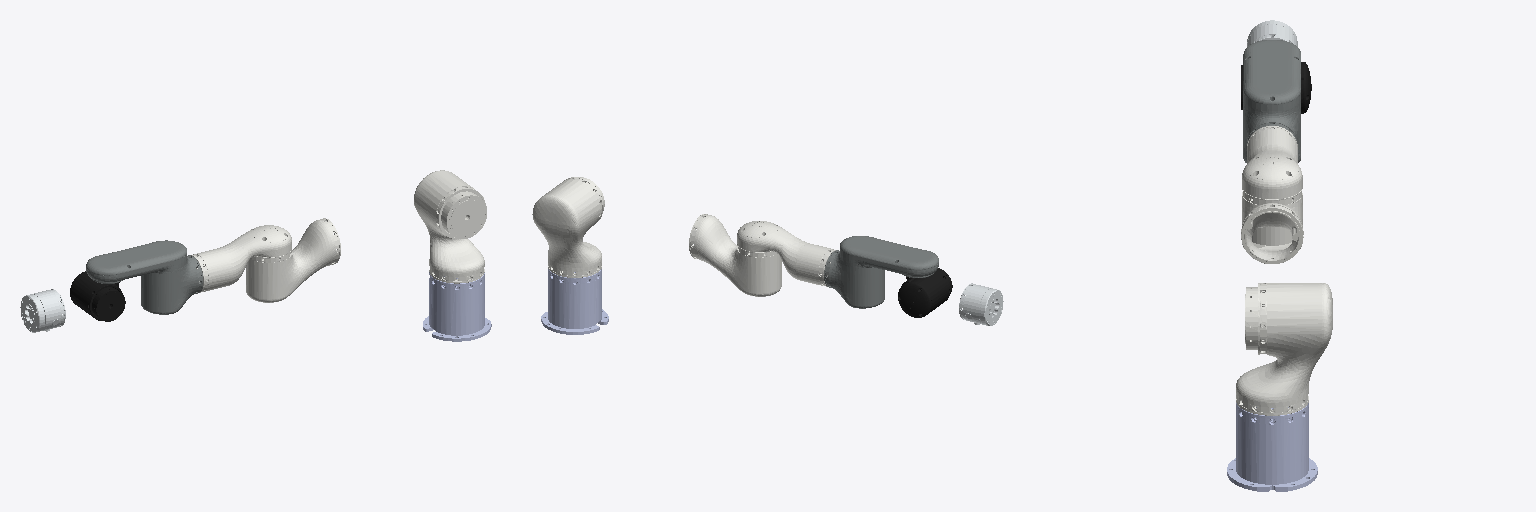
URDF robot description (RXR-6FB-V):
<?xml version="1.0" encoding="utf-8"?>
<!-- This URDF was automatically created by SolidWorks to URDF Exporter! Originally created by Stephen Brawner (brawner@gmail.com) 
     Commit Version: 1.6.0-4-g7f85cfe  Build Version: 1.6.7995.38578
     For more information, please see http://wiki.ros.org/sw_urdf_exporter -->
<robot
  name="RXR-6FB-V">
  <link
    name="base_link">
    <inertial>
      <origin
        xyz="-0.001567 0.000482 0.057387"
        rpy="0 0 0" />
      <mass
        value="1.36" />
      <inertia
        ixx="0.001538061"
        ixy="5.117e-06"
        ixz="-1.0816e-05"
        iyy="0.0015157"
        iyz="2.6121e-05"
        izz="0.001161949" />
    </inertial>
    <visual>
      <origin
        xyz="0 0 0"
        rpy="0 0 0" />
      <geometry>
        <mesh
          filename="package://rm_description/meshes/rm_rx75_arm/rm_rx75_right_arm_v/base_link.STL" />
      </geometry>
      <material
        name="">
        <color
          rgba="0.792156862745098 0.819607843137255 0.933333333333333 1" />
      </material>
    </visual>
    <collision>
      <origin
        xyz="0 0 0"
        rpy="0 0 0" />
      <geometry>
        <mesh
          filename="package://rm_description/meshes/rm_rx75_arm/rm_rx75_right_arm_v/base_link.STL" />
      </geometry>
    </collision>
  </link>
  <link
    name="Link1">
    <inertial>
      <origin
        xyz="0.018E-3 -13.67E-3 -10.1E-3"
        rpy="0 0 0" />
      <mass
        value="1.559" />
      <inertia
        ixx="2693.824E-6"
        ixy="-0.293E-6"
        ixz="2.442E-6"
        iyy="2324.503E-6"
        iyz="193.031E-6"
        izz="1662.437E-6" />
    </inertial>
    <visual>
      <origin
        xyz="0 0 0"
        rpy="0 0 0" />
      <geometry>
        <mesh
          filename="package://rm_description/meshes/rm_rx75_arm/rm_rx75_right_arm_v/Link1.STL" />
      </geometry>
      <material
        name="">
        <color
          rgba="0.925490196078431 0.925490196078431 0.905882352941176 1" />
      </material>
    </visual>
    <collision>
      <origin
        xyz="0 0 0"
        rpy="0 0 0" />
      <geometry>
        <mesh
          filename="package://rm_description/meshes/rm_rx75_arm/rm_rx75_right_arm_v/Link1.STL" />
      </geometry>
    </collision>
  </link>
  <joint
    name="J1"
    type="revolute">
    <origin
      xyz="0 0 0.1915"
      rpy="0 0 0" />
    <parent
      link="base_link" />
    <child
      link="Link1" />
    <axis
      xyz="0 0 1" />
    <limit
      lower="-3.0194"
      upper="3.0194"
      effort="60"
      velocity="3.14" />
  </joint>
  <link
    name="Link2">
    <inertial>
      <origin
        xyz="-0.000196999999999991 0.149264028683704 0.00390390344532155"
        rpy="0 0 0" />
      <mass
        value="1.384" />
      <inertia
        ixx="0.00672698899999999"
        ixy="1.60996569956782e-06"
        ixz="-4.6690118275944e-06"
        iyy="0.00102815402860369"
        iyz="0.000750632506042032"
        izz="0.00667798297139631" />
    </inertial>
    <visual>
      <origin
        xyz="0 0 0"
        rpy="3.14158530717959 0 0" />
      <geometry>
        <mesh
          filename="package://rm_description/meshes/rm_rx75_arm/rm_rx75_right_arm_v/Link2.STL" />
      </geometry>
      <material
        name="">
        <color
          rgba="0.92549 0.92549 0.90588 1" />
      </material>
    </visual>
    <collision>
      <origin
        xyz="0 0 0"
        rpy="3.14158530717959 0 0" />
      <geometry>
        <mesh
          filename="package://rm_description/meshes/rm_rx75_arm/rm_rx75_right_arm_v/Link2.STL" />
      </geometry>
    </collision>
  </link>
  <joint
    name="J2"
    type="revolute">
    <origin
      xyz="0 0 0"
      rpy="-1.57079265346976 -1.57079265358979 3.14159265346976" />
    <parent
      link="Link1" />
    <child
      link="Link2" />
    <axis
      xyz="0 7.34641020655755e-06 0.999999999973015" />
    <limit
      lower="-3.1067"
      upper="0.6109"
      effort="60"
      velocity="3.14" />
  </joint>
  <link
    name="Link3">
    <inertial>
      <origin
        xyz="0.000153917418998824 -0.0156519999999999 0.0112410011310439"
        rpy="0 0 0" />
      <mass
        value="1.117" />
      <inertia
        ixx="0.00175636000587932"
        ixy="4.25782281986954e-06"
        ixz="-3.97298252641502e-07"
        iyy="1468.096E-6"
        iyz="-0.000112002968723313"
        izz="0.000980232994120682" />
    </inertial>
    <visual>
      <origin
        xyz="0 0 0"
        rpy="-3.14159265358979 7.34641020661009e-06 -3.14159265358979" />
      <geometry>
        <mesh
          filename="package://rm_description/meshes/rm_rx75_arm/rm_rx75_right_arm_v/Link3.STL" />
      </geometry>
      <material
        name="">
        <color
          rgba="0.925490196078431 0.925490196078431 0.905882352941176 1" />
      </material>
    </visual>
    <collision>
      <origin
        xyz="0 0 0"
        rpy="-3.14159265358979 7.34641020661009e-06 -3.14159265358979" />
      <geometry>
        <mesh
          filename="package://rm_description/meshes/rm_rx75_arm/rm_rx75_right_arm_v/Link3.STL" />
      </geometry>
    </collision>
  </link>
  <joint
    name="J3"
    type="revolute">
    <origin
      xyz="0 0.321999999991311 -2.36554408651153e-06"
      rpy="1.5707963267949 1.5707963267949 0" />
    <parent
      link="Link2" />
    <child
      link="Link3" />
    <axis
      xyz="-7.34641020655755e-06 0 0.999999999973015" />
    <limit
      lower="-3.0194"
      upper="3.0194"
      effort="30"
      velocity="3.925" />
  </joint>
  <link
    name="Link4">
    <inertial>
      <origin
        xyz="6.35736300044839e-07 -0.0865369999976648 -4.41099999875608e-06"
        rpy="0 0 0" />
      <mass
        value="0.665" />
      <inertia
        ixx="0.00120941599830706"
        ixy="1.1844419021188e-07"
        ixz="-8.50819597611498e-09"
        iyy="0.000332227001692943"
        iyz="0.000205296999943048"
        izz="1191.661E-6" />
    </inertial>
    <visual>
      <origin
        xyz="0 0 0"
        rpy="0 0 -3.14158530717959" />
      <geometry>
        <mesh
          filename="package://rm_description/meshes/rm_rx75_arm/rm_rx75_right_arm_v/Link4.STL" />
      </geometry>
      <material
        name="">
        <color
          rgba="0.925490196078431 0.925490196078431 0.905882352941176 1" />
      </material>
    </visual>
    <collision>
      <origin
        xyz="0 0 0"
        rpy="0 0 -3.14158530717959" />
      <geometry>
        <mesh
          filename="package://rm_description/meshes/rm_rx75_arm/rm_rx75_right_arm_v/Link4.STL" />
      </geometry>
    </collision>
  </link>
  <joint
    name="J4"
    type="revolute">
    <origin
      xyz="0 0 0"
      rpy="1.5707963267949 0 0" />
    <parent
      link="Link3" />
    <child
      link="Link4" />
    <axis
      xyz="0 0 1" />
    <limit
      lower="-2.2689"
      upper="0.2618"
      effort="30"
      velocity="3.925" />
  </joint>
  <link
    name="Link5">
    <inertial>
      <origin
        xyz="-5.92319015829158e-07 0.0147390000000006 0.0806269999978242"
        rpy="0 0 0" />
      <mass
        value="1.13" />
      <inertia
        ixx="2343.069E-6"
        ixy="-5.12594038513658e-08"
        ixz="2.41932903810471e-08"
        iyy="1934.377E-6"
        iyz="0.000443672999635393"
        izz="1091.67E-6" />
    </inertial>
    <visual>
      <origin
        xyz="0 0 0"
        rpy="-3.14159265358979 7.34641020661009e-06 -3.14159265358979" />
      <geometry>
        <mesh
          filename="package://rm_description/meshes/rm_rx75_arm/rm_rx75_right_arm_v/Link5.STL" />
      </geometry>
      <material
        name="">
        <color
          rgba="0.529411764705882 0.549019607843137 0.549019607843137 1" />
      </material>
    </visual>
    <collision>
      <origin
        xyz="0 0 0"
        rpy="-3.14159265358979 7.34641020661009e-06 -3.14159265358979" />
      <geometry>
        <mesh
          filename="package://rm_description/meshes/rm_rx75_arm/rm_rx75_right_arm_v/Link5.STL" />
      </geometry>
    </collision>
  </link>
  <joint
    name="J5"
    type="revolute">
    <origin
      xyz="2.02393601190661e-06 -0.275499999992566 0"
      rpy="-1.5707963267949 0 0" />
    <parent
      link="Link4" />
    <child
      link="Link5" />
    <axis
      xyz="-7.34641020655755e-06 0 0.999999999973015" />
    <limit
      lower="-3.0194"
      upper="3.0194"
      effort="10"
      velocity="3.925" />
  </joint>
  <link
    name="Link6">
    <inertial>
      <origin
        xyz="-0.0139080074709239 0.0010168978260994 -0.0032449999999999"
        rpy="0 0 0" />
      <mass
        value="0.559" />
      <inertia
        ixx="0.000354168005741329"
        ixy="-3.9051483568136e-07"
        ixz="2.70690054503056e-05"
        iyy="0.000288126994258671"
        iyz="-7.4180114000209e-07"
        izz="312.487E-6" />
    </inertial>
    <visual>
      <origin
        xyz="0 0 0"
        rpy="0 0 -3.14158530717959" />
      <geometry>
        <mesh
          filename="package://rm_description/meshes/rm_rx75_arm/rm_rx75_right_arm_v/Link6.STL" />
      </geometry>
      <material
        name="">
        <color
          rgba="0.156862745098039 0.156862745098039 0.156862745098039 1" />
      </material>
    </visual>
    <collision>
      <origin
        xyz="0 0 0"
        rpy="0 0 -3.14158530717959" />
      <geometry>
        <mesh
          filename="package://rm_description/meshes/rm_rx75_arm/rm_rx75_right_arm_v/Link6.STL" />
      </geometry>
    </collision>
  </link>
  <joint
    name="J6"
    type="revolute">
    <origin
      xyz="0 0 0"
      rpy="1.5707963267949 -1.5707963267949 0" />
    <parent
      link="Link5" />
    <child
      link="Link6" />
    <axis
      xyz="0 0 1" />
    <limit
      lower="-0.9599"
      upper="0.9599"
      effort="10"
      velocity="3.925" />
  </joint>
  <link
    name="Link7">
    <inertial>
      <origin
        xyz="0.0200085215945842 -0.0709998846134496 -0.00430147840583908"
        rpy="0 0 0" />
      <mass
        value="0.483" />
      <inertia
        ixx="0.000810993716445607"
        ixy="0.000155418177628013"
        ixz="-4.23761145405931e-05"
        iyy="0.00115280622912595"
        iyz="0.000132418271645065"
        izz="0.00164051805442843" />
    </inertial>
    <visual>
      <origin
        xyz="0 0 0"
        rpy="3.14158530717959 5.39697175838683e-11 7.34641019906057e-06" />
      <geometry>
        <mesh
          filename="package://rm_description/meshes/rm_rx75_arm/rm_rx75_right_arm_v/Link7.STL" />
      </geometry>
      <material
        name="">
        <color
          rgba="1 1 1 1" />
      </material>
    </visual>
    <collision>
      <origin
        xyz="0 0 0"
        rpy="3.14158530717959 5.39697175838683e-11 7.34641019906057e-06" />
      <geometry>
        <mesh
          filename="package://rm_description/meshes/rm_rx75_arm/rm_rx75_right_arm_v/Link7.STL" />
      </geometry>
    </collision>
  </link>
  <joint
    name="J7"
    type="revolute">
    <origin
      xyz="-0.0154999999995817 -1.13869358201642e-07 0"
      rpy="-1.57079265331863 1.57079265358979 -3.14159265331863" />
    <parent
      link="Link6" />
    <child
      link="Link7" />
    <axis
      xyz="0 7.34641020666559e-06 0.999999999973014" />
    <limit
      lower="-0.6109"
      upper="1.9024"
      effort="10"
      velocity="3.925" />
  </joint>
  <link
    name="Link8">
    <inertial>
      <origin
        xyz="-0.000223514521197399 8.83640631490895E-05 -0.0171573985138972"
        rpy="0 0 0" />
      <mass
        value="0.165822947667674" />
      <inertia
        ixx="4.8848746976957E-05"
        ixy="-9.45914855107049E-08"
        ixz="3.06193382564701E-07"
        iyy="4.94605021339589E-05"
        iyz="8.02677028552643E-09"
        izz="7.69017076313119E-05" />
    </inertial>
    <visual>
      <origin
        xyz="0 0 0"
        rpy="3.14158530717959 -7.34641019906057e-06 5.39694955392633e-11" />
      <geometry>
        <mesh
          filename="package://rm_description/meshes/rm_rx75_arm/rm_rx75_right_arm_v/Link8.STL" />
      </geometry>
      <material
        name="">
        <color
          rgba="0.898039215686275 0.917647058823529 0.929411764705882 1" />
      </material>
    </visual>
    <collision>
      <origin
        xyz="0 0 0"
        rpy="3.14158530717959 -7.34641019906057e-06 5.39694955392633e-11" />
      <geometry>
        <mesh
          filename="package://rm_description/meshes/rm_rx75_arm/rm_rx75_right_arm_v/Link8.STL" />
      </geometry>
    </collision>
  </link>
  <joint
    name="J8"
    type="revolute">
    <origin
      xyz="8.742228439557e-07 -0.119000004110726 8.74222844801954e-07"
      rpy="-1.5707963267949 0 0" />
    <parent
      link="Link7" />
    <child
      link="Link8" />
    <axis
      xyz="0 0 1" />
    <limit
      lower="0"
      upper="0"
      effort="0"
      velocity="0" />
  </joint>
</robot>

--- What the picture shows (computed from the rendered views, not written in the file) ---
Views: 3 orthographic renders of the robot side by side, from view 1: azimuth 30°, elevation 25°; view 2: azimuth 150°, elevation 25°; view 3: azimuth 270°, elevation 25°.
Model RXR-6FB-V with 9 links and 8 joints (8 revolute), rooted at base_link, posed every joint at zero.
Links seen in each view (by area): view 1: Link1, Link5, Link3, base_link, Link4, Link6, Link8; view 2: Link1, Link5, Link3, base_link, Link4, Link6, Link8; view 3: Link1, base_link, Link5, Link3, Link4, Link8, Link6.
Boxes of the visible links, x1,y1,x2,y2 form: Link1: (414,170,486,283); Link5: (86,240,203,314); Link3: (246,218,340,302); base_link: (423,272,491,341); Link4: (191,225,291,292); Link6: (70,271,125,321); Link8: (20,289,65,332); Link1: (532,177,604,277); Link5: (824,236,938,308); Link3: (689,214,781,296); base_link: (541,269,608,334); Link4: (737,221,835,286); Link6: (898,268,952,317); Link8: (959,283,1003,325); Link1: (1236,283,1332,415); base_link: (1227,403,1317,491); Link5: (1243,40,1300,162); Link3: (1241,188,1303,263); Link4: (1242,126,1302,198); Link8: (1247,20,1297,46); Link6: (1241,62,1311,113).
Size in the robot's own frame: 0.7801 by 0.119 by 0.2466 metres.
7 mesh visuals loaded from 9 distinct referenced files (7 binary STL); not drawn: 2 (reference not matched to a file when rendering).
